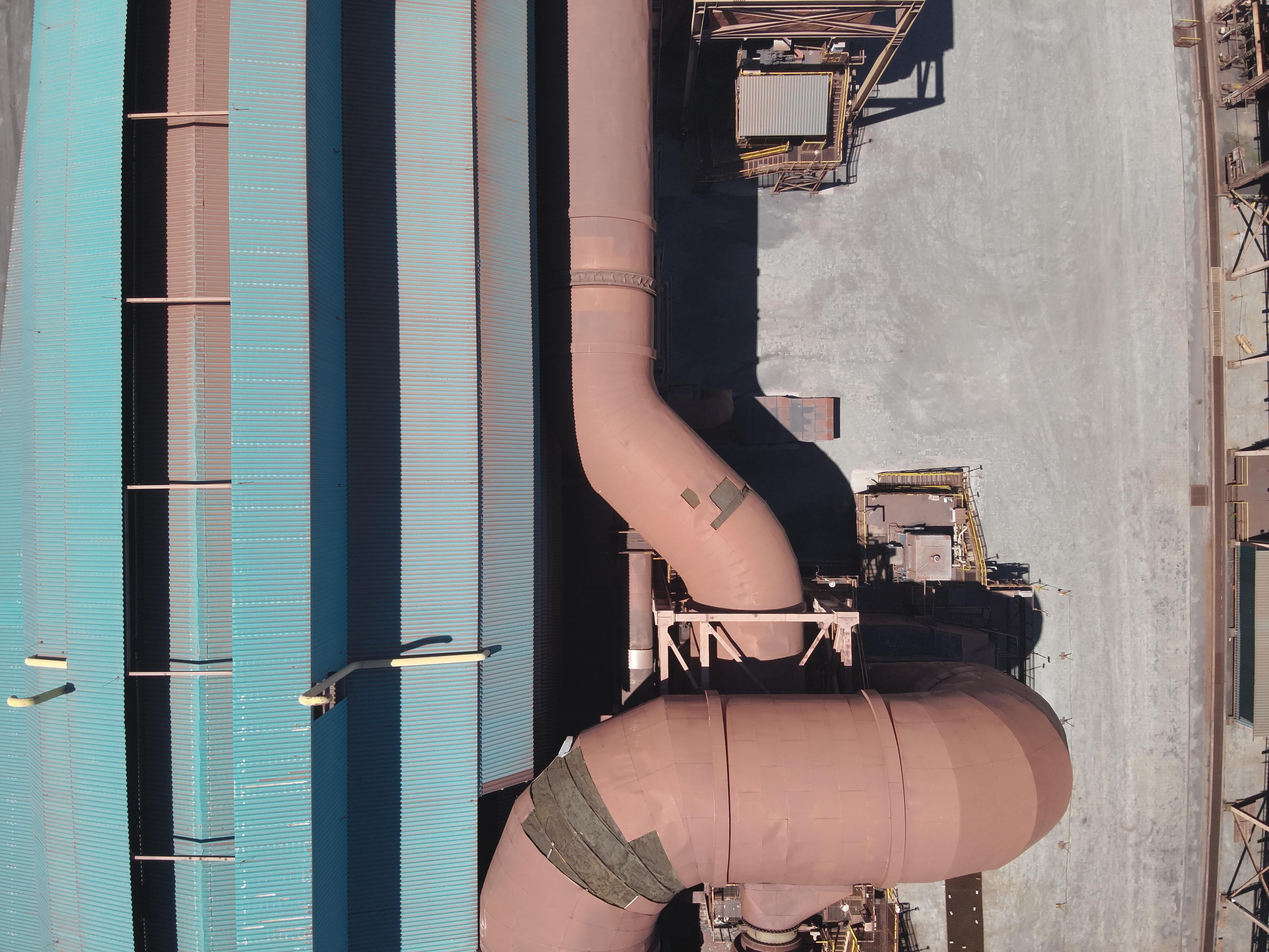Failures: (526, 744, 688, 916), (710, 476, 752, 530), (680, 487, 700, 514)
